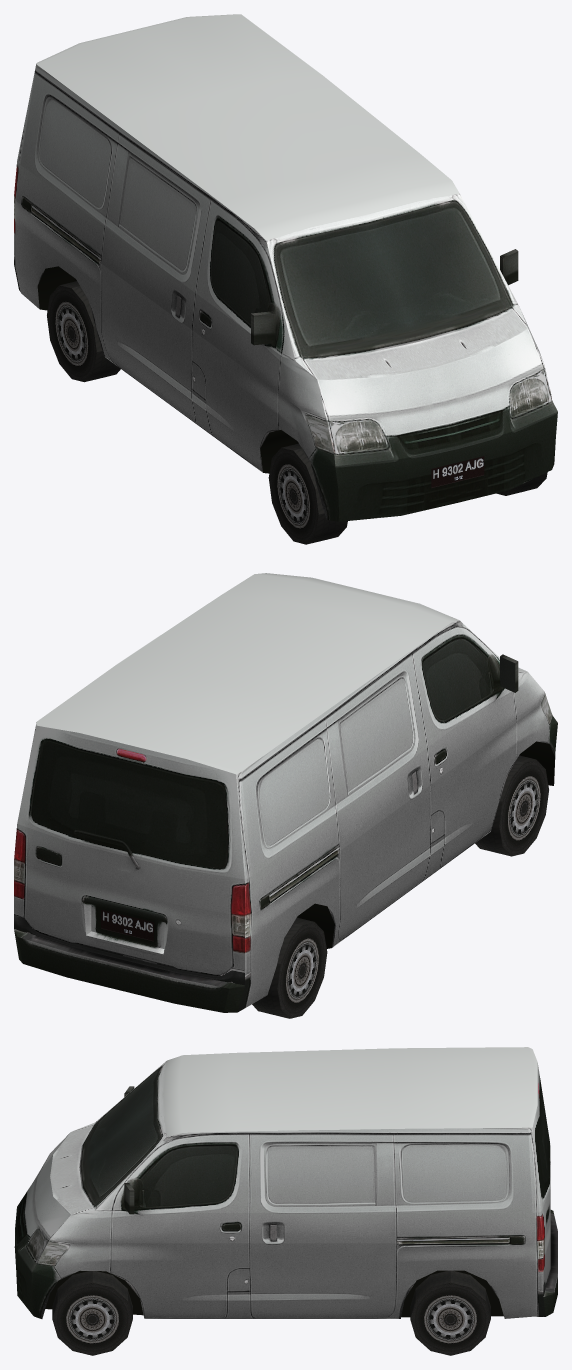
The model's file is Van.glb.
The picture shows the model from 3 angles, top to bottom: view 1: azimuth 30°, elevation 25°; view 2: azimuth 150°, elevation 25°; view 3: azimuth 270°, elevation 25°; orthographic projection. The views are drawn at different scales.
Parts seen in each view (by area): view 1: Plane.003, wheel.004, wheel.005; view 2: Plane.003, wheel.005, wheel.004; view 3: Plane.003, wheel.007, wheel.006.
Part boxes in pixels (bbox=[...]): Plane.003: bbox=[14, 14, 557, 521]; wheel.004: bbox=[268, 443, 347, 544]; wheel.005: bbox=[47, 281, 120, 382]; Plane.003: bbox=[14, 573, 557, 1012]; wheel.005: bbox=[252, 917, 327, 1018]; wheel.004: bbox=[475, 755, 548, 856]; Plane.003: bbox=[14, 1047, 557, 1318]; wheel.007: bbox=[410, 1270, 490, 1355]; wheel.006: bbox=[52, 1271, 132, 1355].
Bounding box in the file's own units: 1.83 × 1.87 × 4.04.
Materials: 1 (1 with a texture image).
